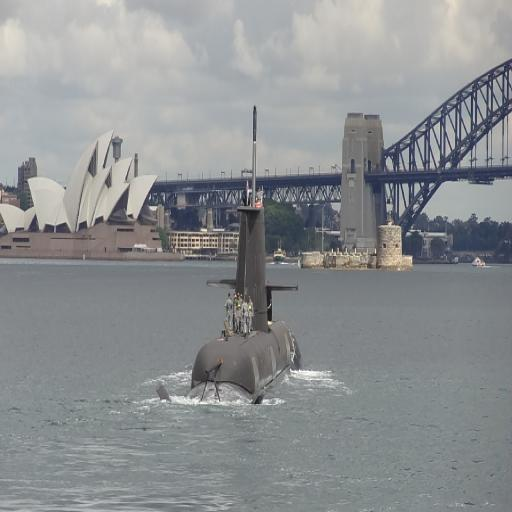submarine: (158, 197, 312, 410)
